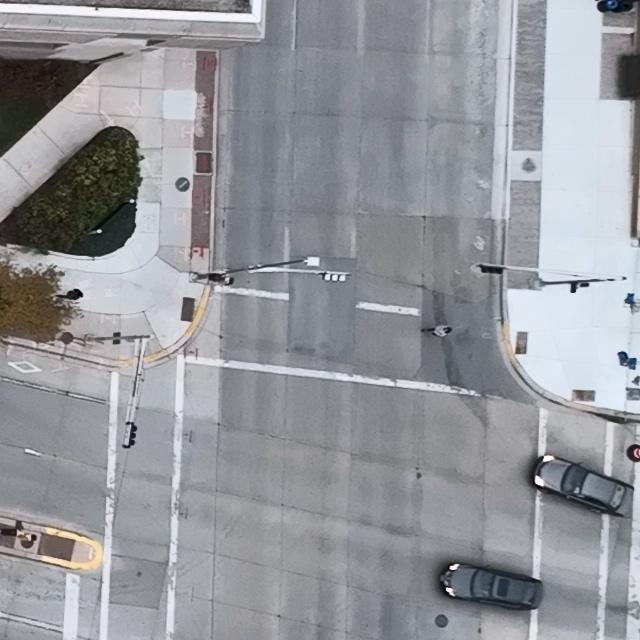car: (529, 454, 633, 518), (438, 562, 543, 610)
